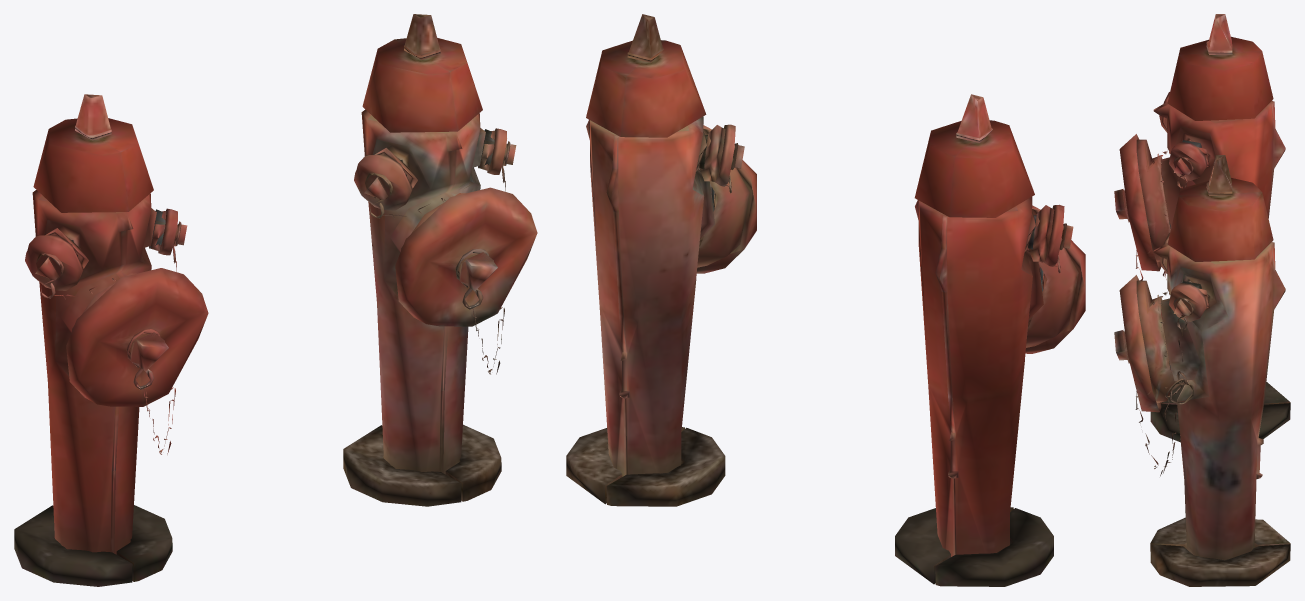
File: fire_hydrant.glb
The picture shows the model from 3 angles, left to right: view 1: azimuth 30°, elevation 25°; view 2: azimuth 150°, elevation 25°; view 3: azimuth 270°, elevation 25°; orthographic projection. The views are drawn at different scales.
Parts seen in each view (by area): view 1: fire_hydrant_aged, fire_hydrant, fire_hydrant_cap_01_aged, fire_hydrant_cap_01, fire_hydrant_cap_03, fire_hydrant_cap_03_aged, fire_hydrant_chain_aged, fire_hydrant_chain, fire_hydrant_cap_02, fire_hydrant_cap_02_aged; view 2: fire_hydrant, fire_hydrant_aged, fire_hydrant_cap_01, fire_hydrant_cap_01_aged, fire_hydrant_cap_03_aged, fire_hydrant_cap_03; view 3: fire_hydrant_aged, fire_hydrant, fire_hydrant_cap_01_aged, fire_hydrant_cap_01, fire_hydrant_cap_02, fire_hydrant_cap_02_aged, fire_hydrant_chain_aged.
Part boxes in pixels (<box>): fire_hydrant_aged: <box>343,14,501,506</box>; fire_hydrant: <box>14,94,172,586</box>; fire_hydrant_cap_01_aged: <box>395,187,537,326</box>; fire_hydrant_cap_01: <box>66,268,208,406</box>; fire_hydrant_cap_03: <box>25,235,83,290</box>; fire_hydrant_cap_03_aged: <box>354,154,412,210</box>; fire_hydrant_chain_aged: <box>369,146,506,374</box>; fire_hydrant_chain: <box>40,227,177,454</box>; fire_hydrant_cap_02: <box>158,208,187,255</box>; fire_hydrant_cap_02_aged: <box>487,128,516,174</box>; fire_hydrant: <box>895,94,1078,586</box>; fire_hydrant_aged: <box>566,14,749,506</box>; fire_hydrant_cap_01: <box>1025,205,1085,353</box>; fire_hydrant_cap_01_aged: <box>696,125,756,273</box>; fire_hydrant_cap_03_aged: <box>714,124,744,186</box>; fire_hydrant_cap_03: <box>1043,204,1073,266</box>; fire_hydrant_aged: <box>1136,155,1290,586</box>; fire_hydrant: <box>1136,14,1290,442</box>; fire_hydrant_cap_01_aged: <box>1114,275,1161,412</box>; fire_hydrant_cap_01: <box>1114,134,1161,271</box>; fire_hydrant_cap_02: <box>1169,142,1207,180</box>; fire_hydrant_cap_02_aged: <box>1169,283,1207,321</box>; fire_hydrant_chain_aged: <box>1135,292,1194,476</box>.
Size of the model in its own units: 0.8728 by 0.7992 by 0.3173.
Materials: 2 (2 with a texture image).
